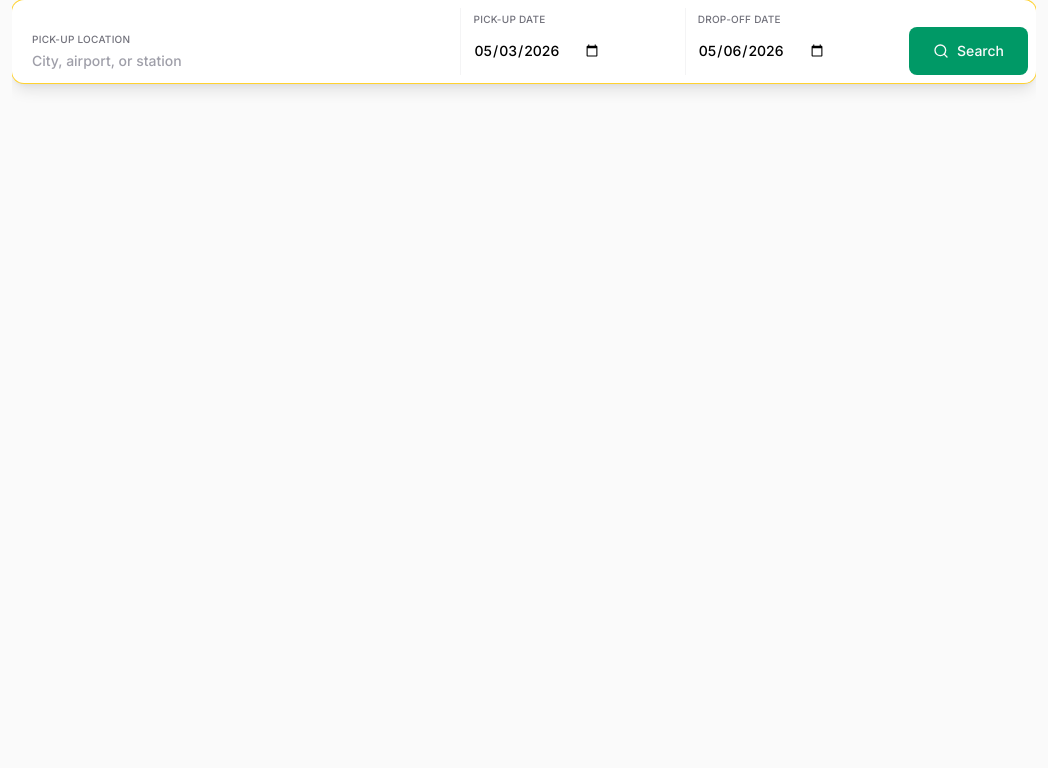
Test: Unauthenticated car search › hits /api/v1/cars/search without an Authorization header and renders the results
The image size is (1048, 768).
Type "Vienna" into the field labelled "Pick-up location" at (236, 61), box [32,51,440,71]
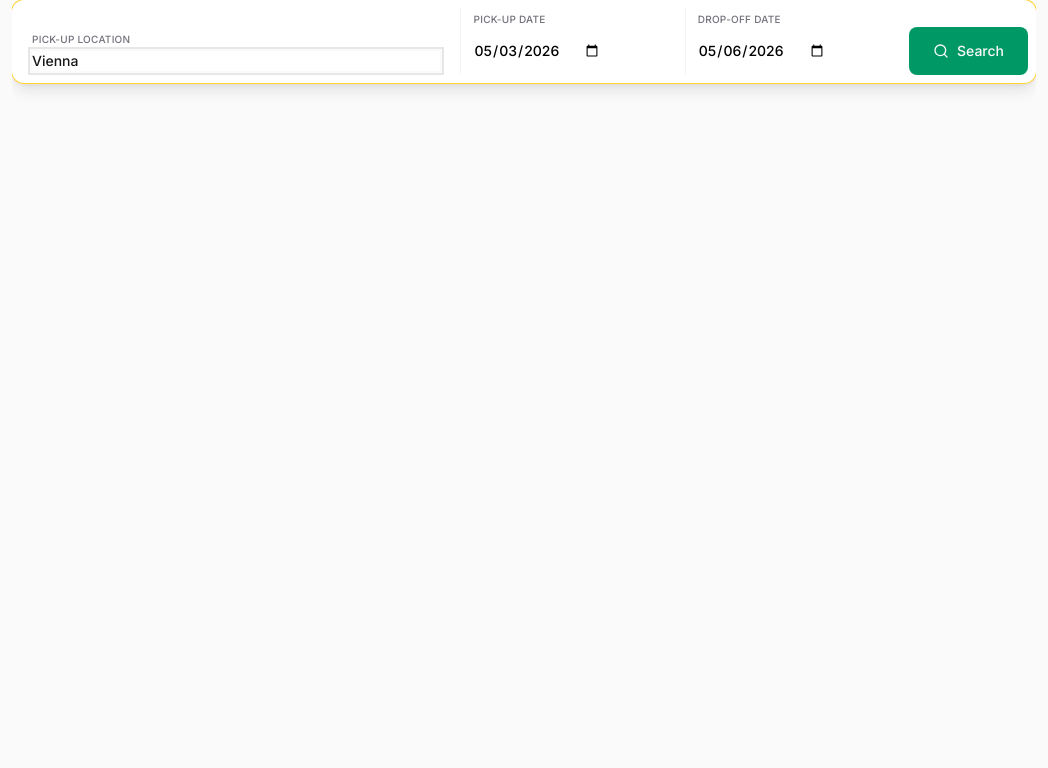
Click the button "Search" at (968, 51), box [909,27,1028,75]
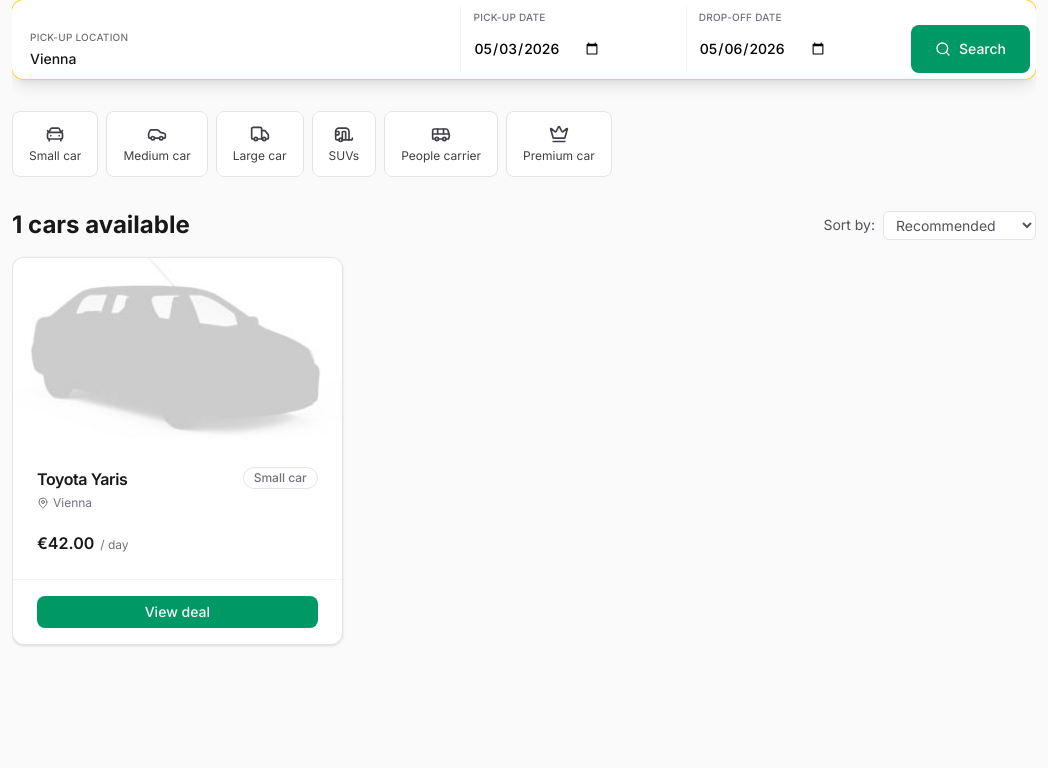
Now the heading "Toyota Yaris" is shown, box [37,467,127,491]
